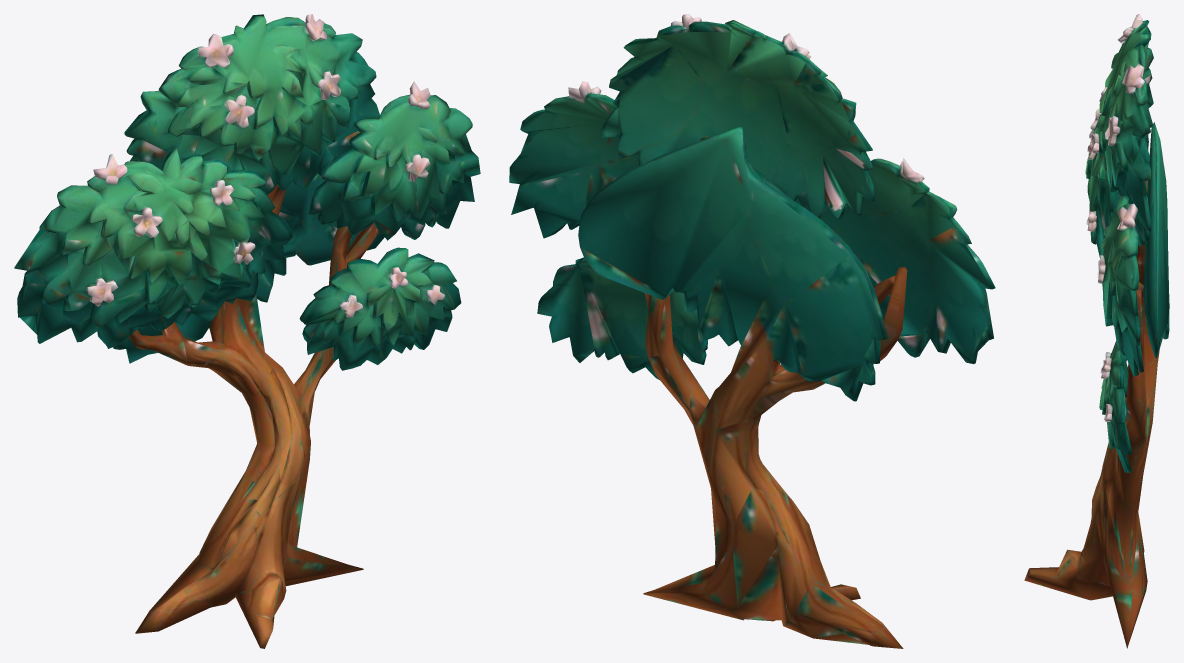
The model's file is tree.glb.
3 views of the same model, side by side, from view 1: azimuth 30°, elevation 25°; view 2: azimuth 150°, elevation 25°; view 3: azimuth 270°, elevation 25° (orthographic). The views are drawn at different scales.
Size of the model in its own units: 0.9229 by 1.1 by 0.2522.
1 material, 1 textured.
